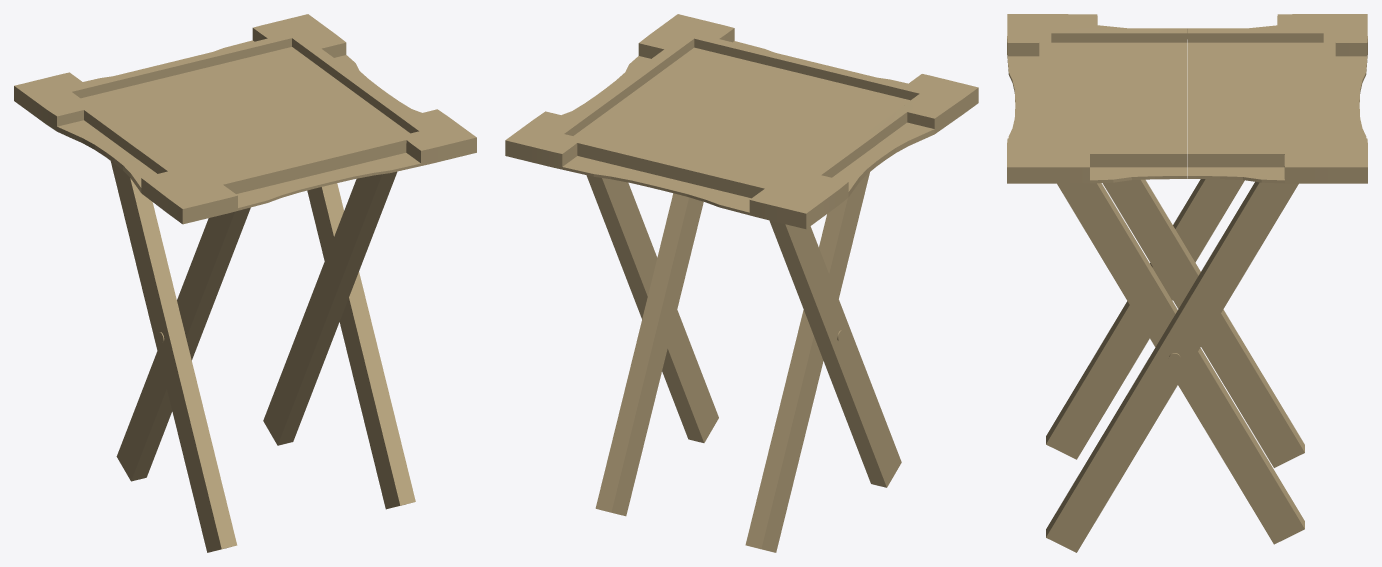
File: domino table final.fbx
The picture shows the model from 3 angles, left to right: view 1: azimuth 30°, elevation 25°; view 2: azimuth 150°, elevation 25°; view 3: azimuth 270°, elevation 25°; orthographic projection. The views are drawn at different scales.
Visible parts, largest first — view 1: Box002, Box003; view 2: Box002, Box003; view 3: Box002, Box003.
Part boxes in pixels (x1,y1,x2,y2): Box002: (14,14,476,224); Box003: (110,161,415,552); Box002: (505,14,978,228); Box003: (586,172,901,552); Box002: (1007,14,1367,183); Box003: (1046,179,1304,552).
Size of the model in its own units: 64.82 by 80.38 by 64.4.
